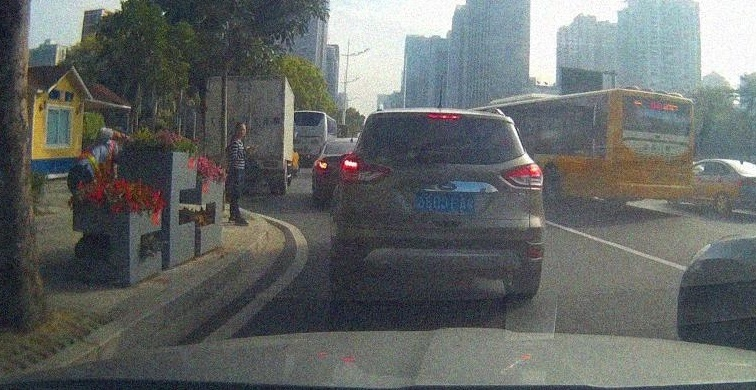L_light: (340, 153, 391, 185), (612, 149, 622, 164)
R_light: (498, 162, 544, 193), (682, 151, 693, 166)
T_light: (426, 112, 462, 121), (653, 96, 666, 100)
day-left: (335, 107, 544, 299)
day-no: (611, 86, 693, 210)
